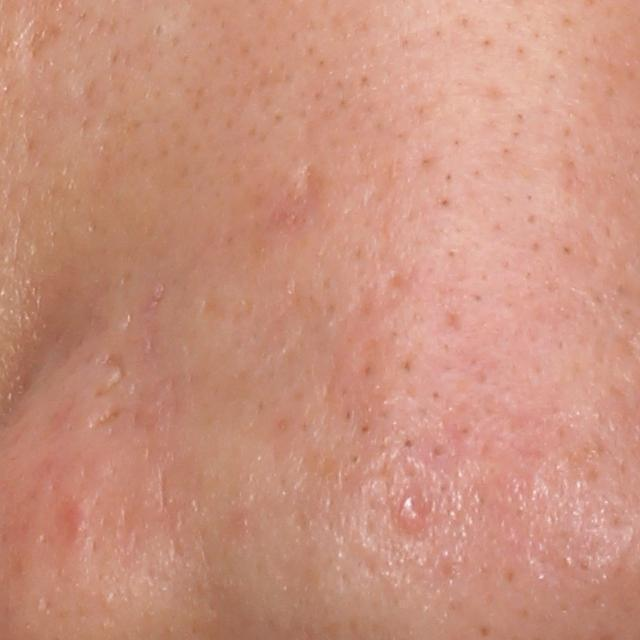atrophic_scar: (355, 267, 412, 326), (280, 163, 328, 229), (19, 15, 66, 63), (95, 348, 129, 398), (85, 401, 131, 434)
papule: (392, 493, 430, 533)
